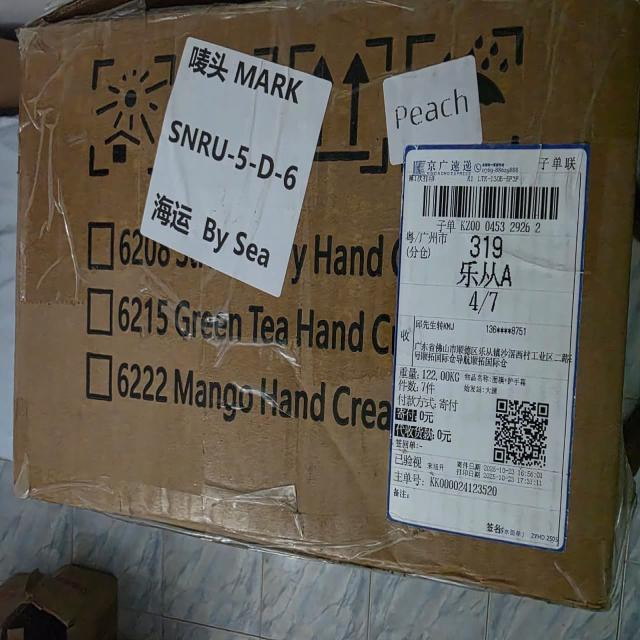carton_box: (6, 3, 639, 636)
export_mark_label: (388, 133, 580, 559), (147, 21, 322, 294)
keep_dry_label: (413, 28, 533, 122)
protect_from_heat_label: (84, 51, 181, 181)
this_side_up_label: (291, 40, 390, 179)
